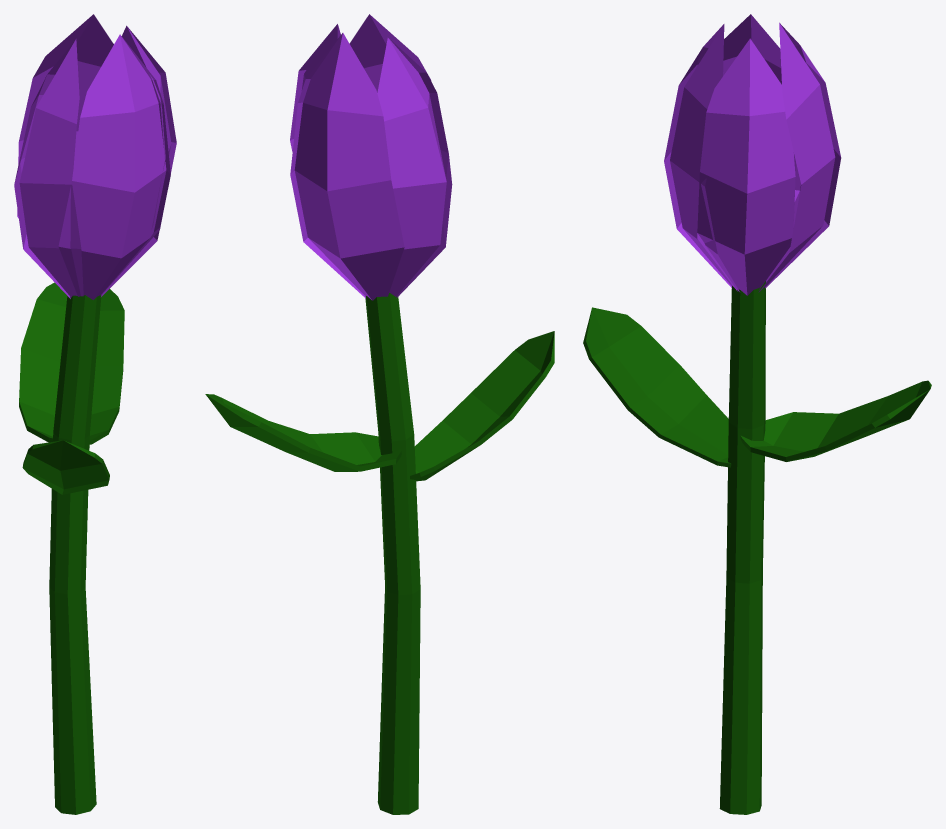
File: flower-7.glb
3 renders of one model, left to right at view 1: azimuth 30°, elevation 25°; view 2: azimuth 150°, elevation 25°; view 3: azimuth 270°, elevation 25°, orthographic. The views are drawn at different scales.
Visible parts, largest first — view 1: Flower 7; view 2: Flower 7; view 3: Flower 7.
Boxes of the visible parts, x1=… form: Flower 7: x1=14, y1=14, x2=176, y2=814; Flower 7: x1=205, y1=14, x2=554, y2=814; Flower 7: x1=583, y1=14, x2=931, y2=814.
Size of the model in its own units: 0.5654 by 1.96 by 0.7691.
